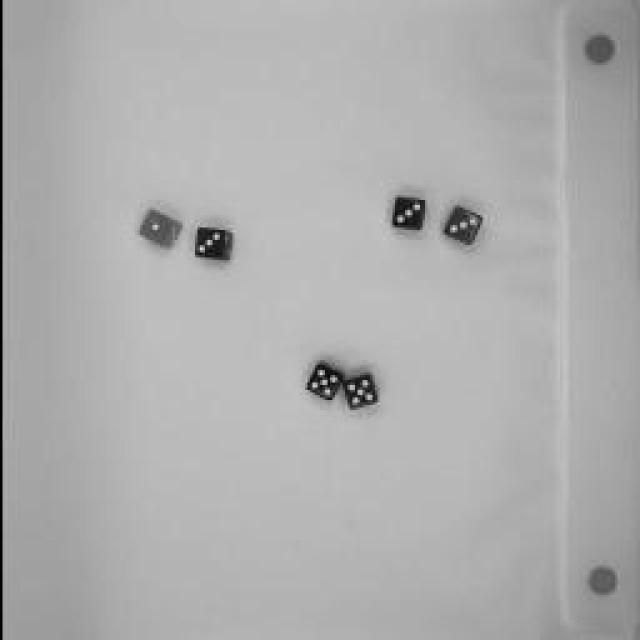dice_1: (130, 205, 182, 255)
dice_3: (182, 220, 238, 270), (380, 189, 430, 239), (435, 200, 485, 250)
dice_5: (298, 355, 348, 405), (332, 368, 380, 412)
